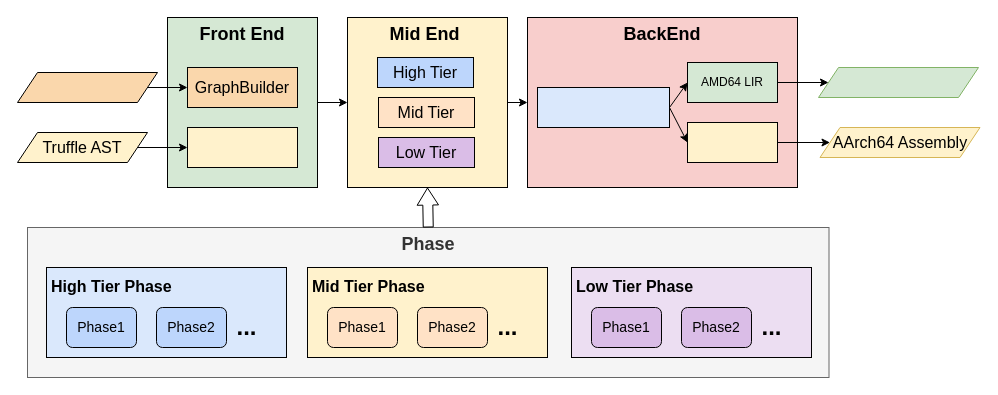
Some shapes in this 998 by 395 pixel diagram are drawn without their labels. Here are the shapes that lost their labels. From the top down, the centre of each, then its label:
At point (87, 87): "JavaByteCode".
At point (898, 82): "AMD64 Assembly".
At point (603, 107): "HotSpotBackEnd".
At point (242, 147): "Truffle".
At point (732, 142): "AArch64 LIR".
